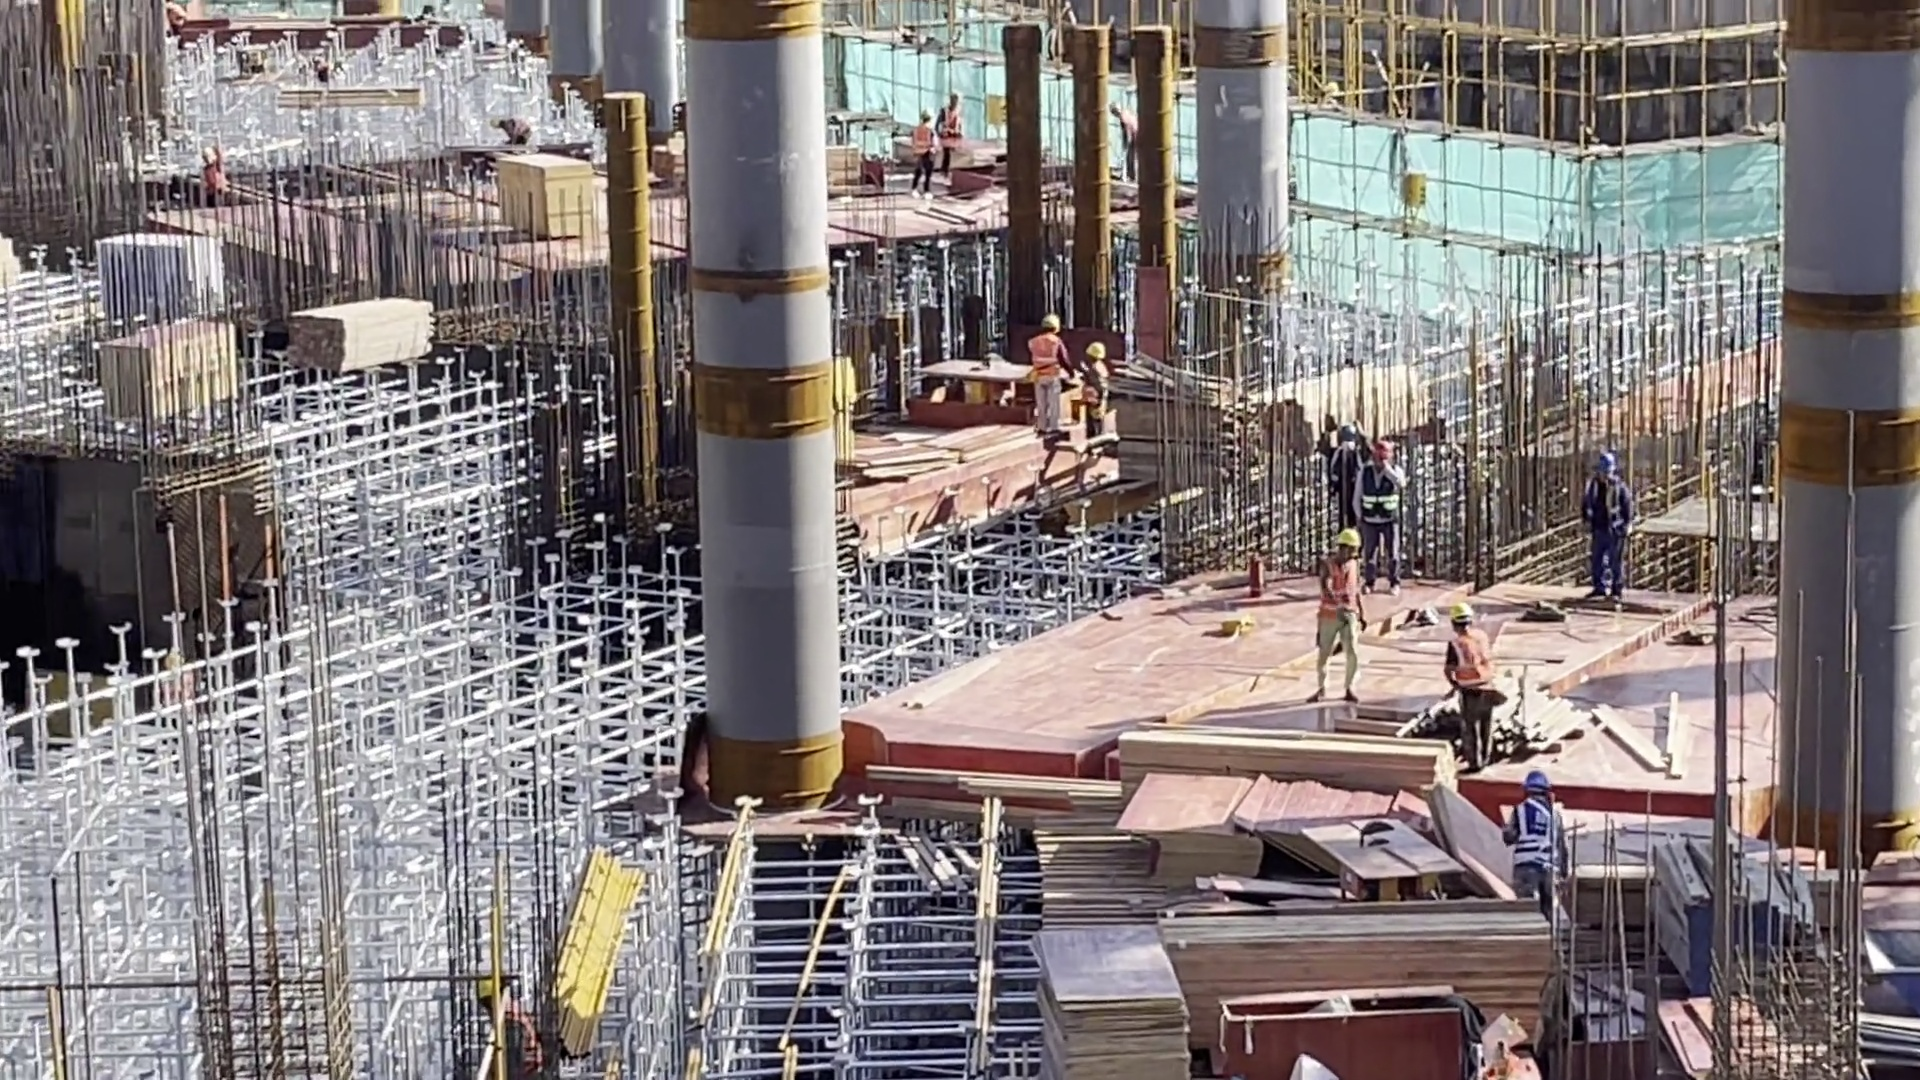helmet: (1516, 760, 1553, 796), (1584, 450, 1619, 479), (1442, 601, 1475, 631), (1332, 527, 1364, 557), (1106, 96, 1130, 134), (1040, 306, 1065, 335), (1368, 438, 1391, 463), (1335, 425, 1358, 449), (940, 89, 963, 113), (916, 105, 935, 128), (1087, 341, 1104, 364), (200, 149, 217, 165), (488, 114, 499, 128)
person: (1501, 766, 1572, 907), (1445, 602, 1501, 772), (1313, 526, 1363, 702), (1316, 410, 1376, 542), (1354, 434, 1401, 595), (1585, 446, 1628, 602), (1020, 314, 1069, 439), (1078, 343, 1116, 448), (936, 89, 971, 181), (908, 109, 941, 196), (1106, 98, 1140, 185)
vest: (1312, 561, 1353, 624), (1515, 804, 1553, 871), (1026, 338, 1067, 386), (1458, 637, 1499, 684), (1586, 482, 1621, 535), (1079, 364, 1104, 415), (911, 132, 934, 169), (939, 113, 961, 150)
